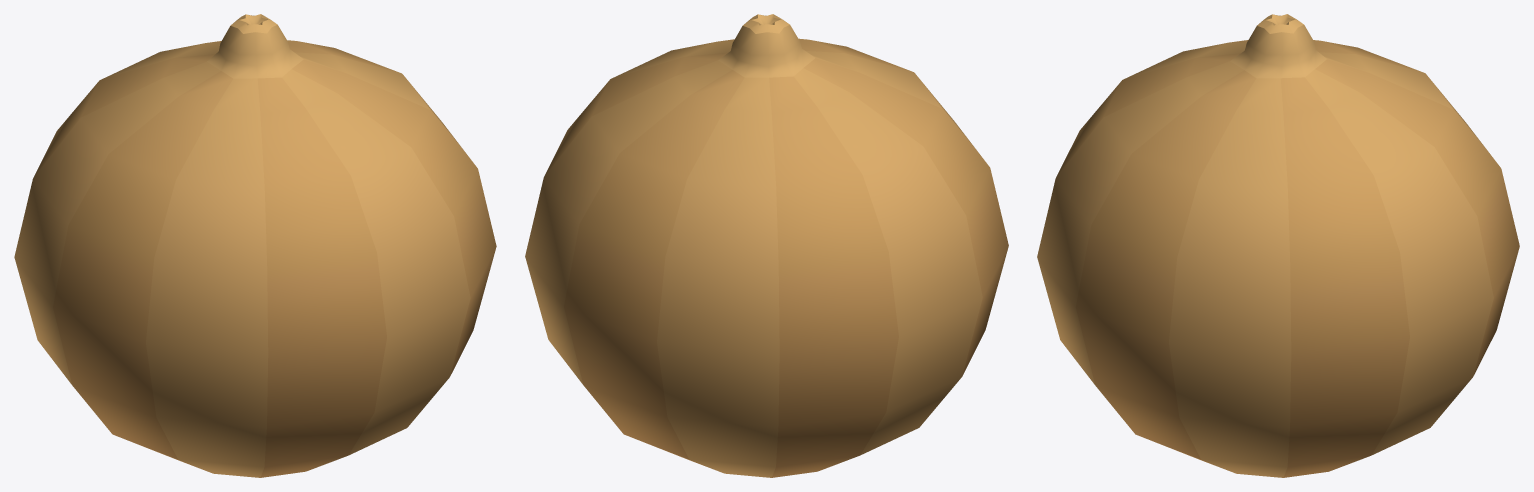
The model's file is Onion_A.glb.
The picture shows the model from 3 angles, left to right: view 1: azimuth 30°, elevation 25°; view 2: azimuth 150°, elevation 25°; view 3: azimuth 270°, elevation 25°; orthographic projection.
Visible parts, largest first — view 1: Onion_A; view 2: Onion_A; view 3: Onion_A.
Boxes of the visible parts, left/top/right/bottom form: Onion_A: left=14, top=14, right=496, bottom=477; Onion_A: left=525, top=14, right=1008, bottom=477; Onion_A: left=1037, top=14, right=1519, bottom=477.
Size of the model in its own units: 0.0623 by 0.0618 by 0.0623.
Materials: 1 (1 with a texture image).
